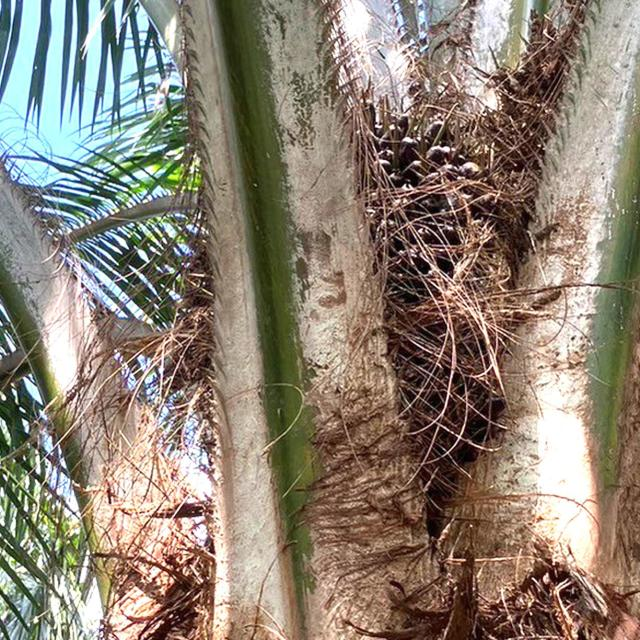almost: (350, 70, 534, 529)
